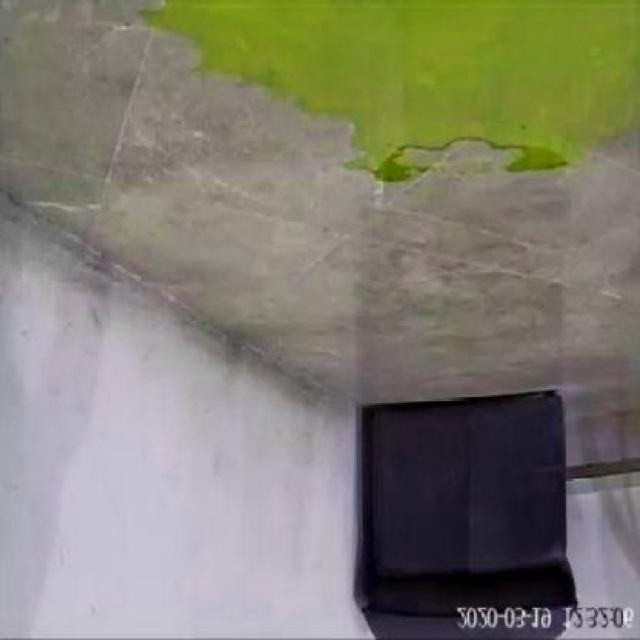spillage: (144, 0, 640, 169), (344, 136, 547, 189)
